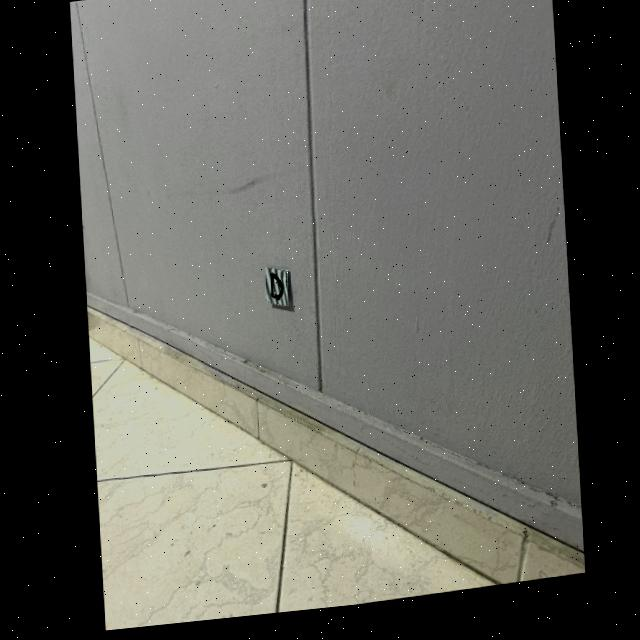D: (269, 279, 283, 305)
